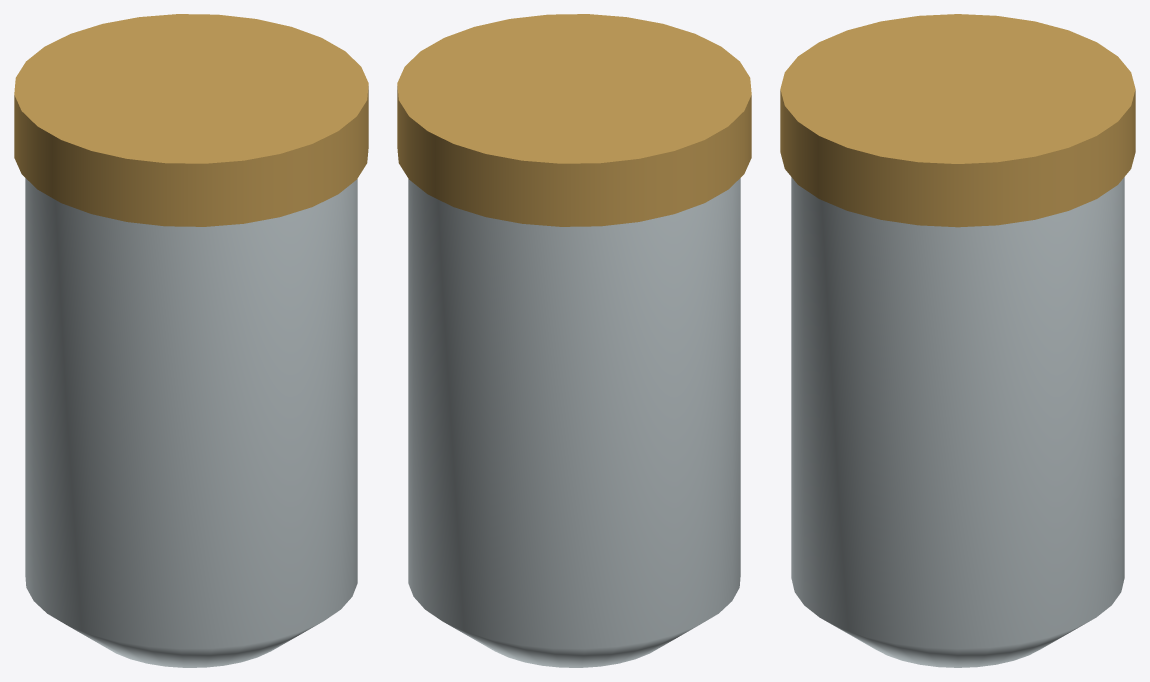
File: wp-bocal-de-cornichons.glb
3 renders of one model, left to right at view 1: azimuth 30°, elevation 25°; view 2: azimuth 150°, elevation 25°; view 3: azimuth 270°, elevation 25°, orthographic.
Visible parts, largest first — view 1: wp-bocal-de-cornichons; view 2: wp-bocal-de-cornichons; view 3: wp-bocal-de-cornichons.
Boxes of the visible parts, x1,y1,x2,y2 form: wp-bocal-de-cornichons: [14, 14, 368, 667]; wp-bocal-de-cornichons: [397, 14, 751, 667]; wp-bocal-de-cornichons: [780, 14, 1135, 667].
Bounding box in the file's own units: 0.09 × 0.15 × 0.09.
